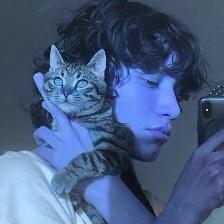kedo: (43, 44, 107, 116)
